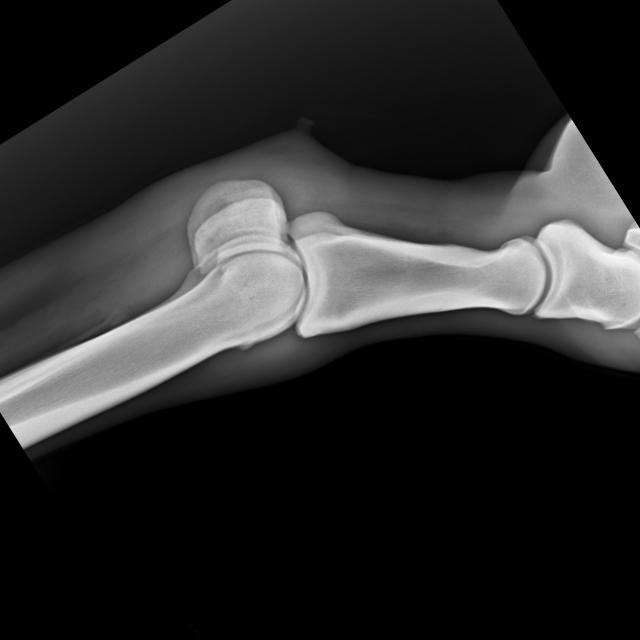joint-ht8A: (61, 100, 431, 472)
